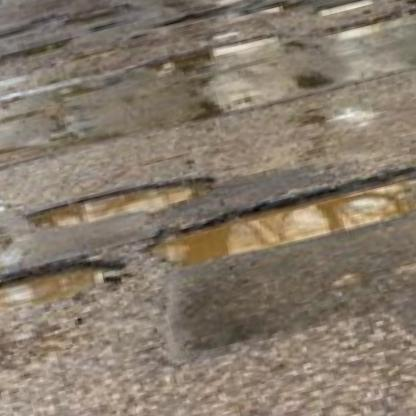pothole: (136, 152, 416, 282), (15, 162, 222, 246), (0, 246, 135, 336), (139, 22, 284, 78), (315, 0, 416, 51), (159, 0, 244, 30), (236, 0, 301, 25), (308, 0, 377, 21)
